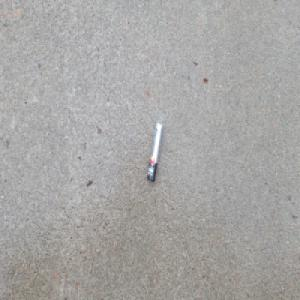Battery: (146, 121, 163, 184)
